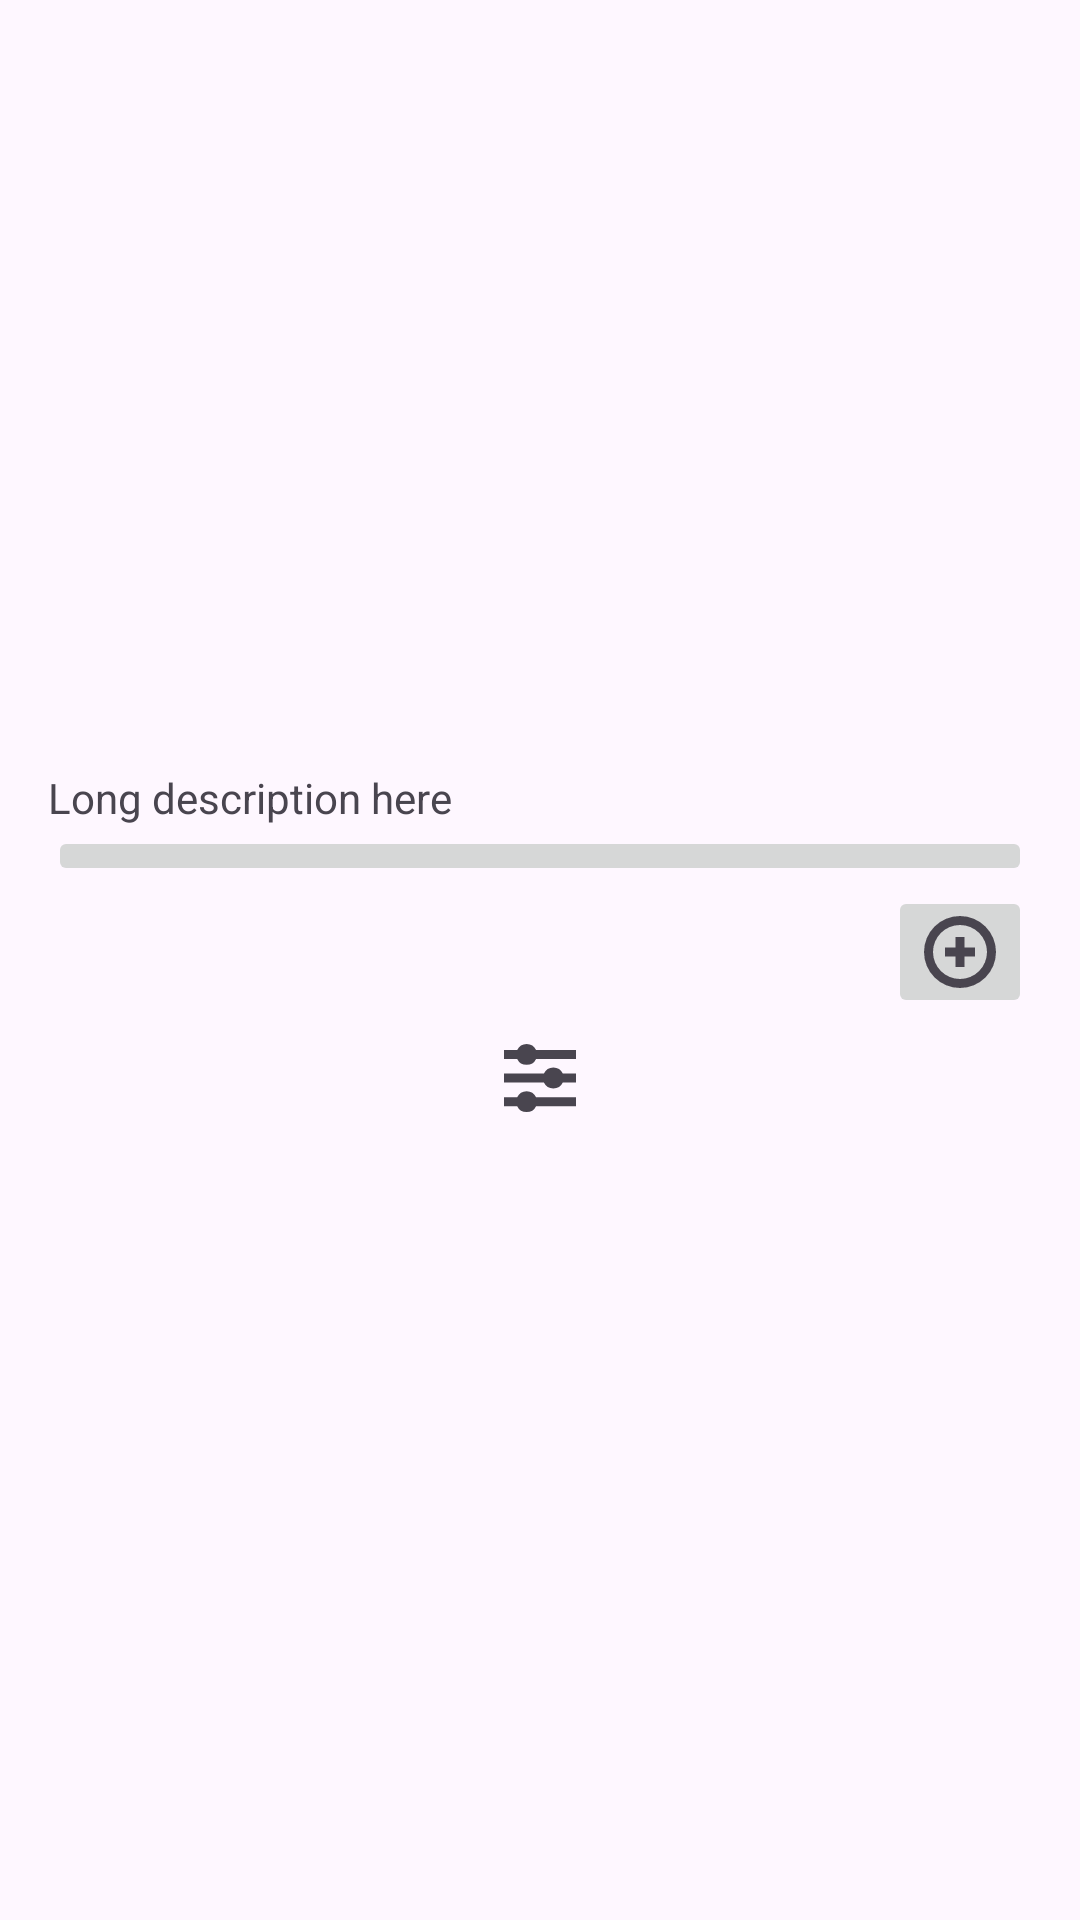

Icon bounding boxes for this 1080x1920 phone screenshot, format [x1, y1, x2, y2]:
Add Description: [900, 904, 1020, 1000]
Settings: [504, 1044, 576, 1112]
